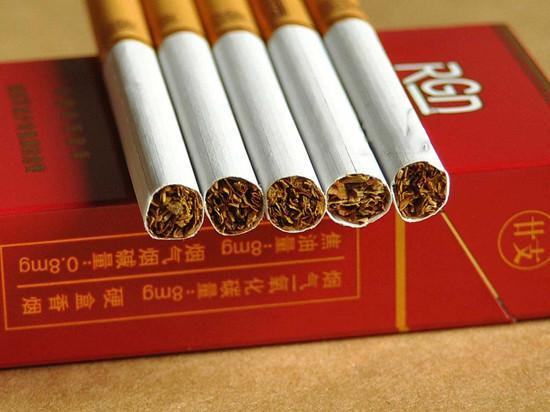smoke: (249, 0, 393, 229), (306, 0, 452, 223), (197, 0, 328, 234), (143, 0, 267, 237), (85, 0, 206, 239)
